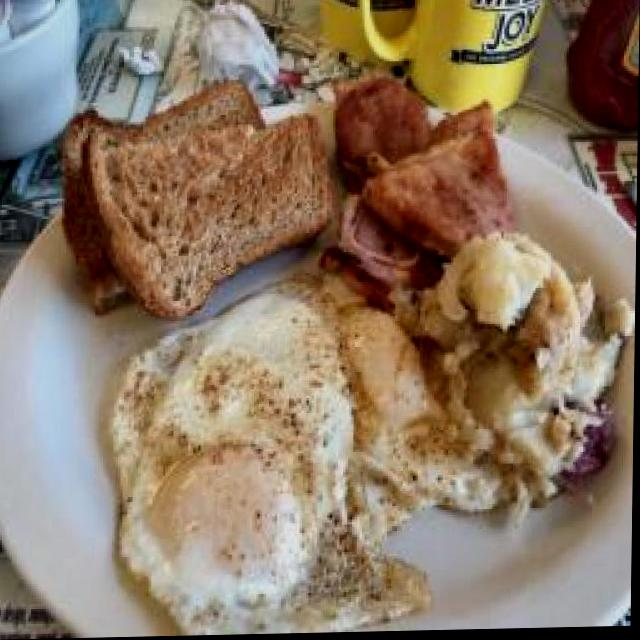fried_eggs: (108, 274, 440, 638)
